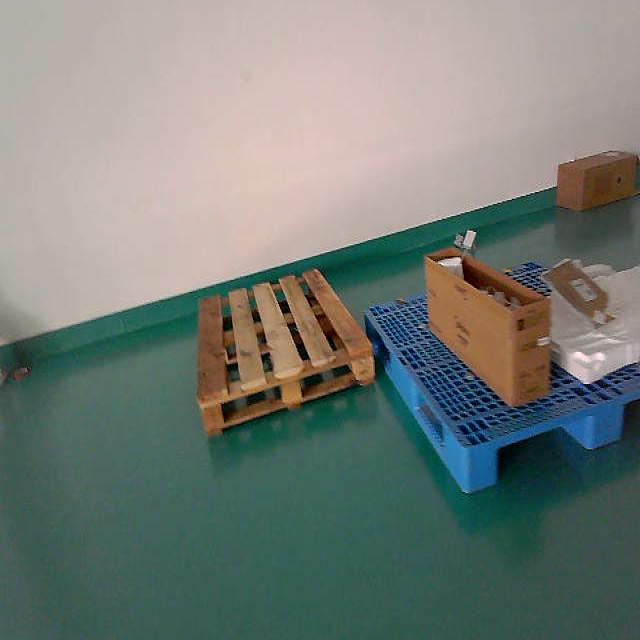euro: (195, 271, 372, 441)
